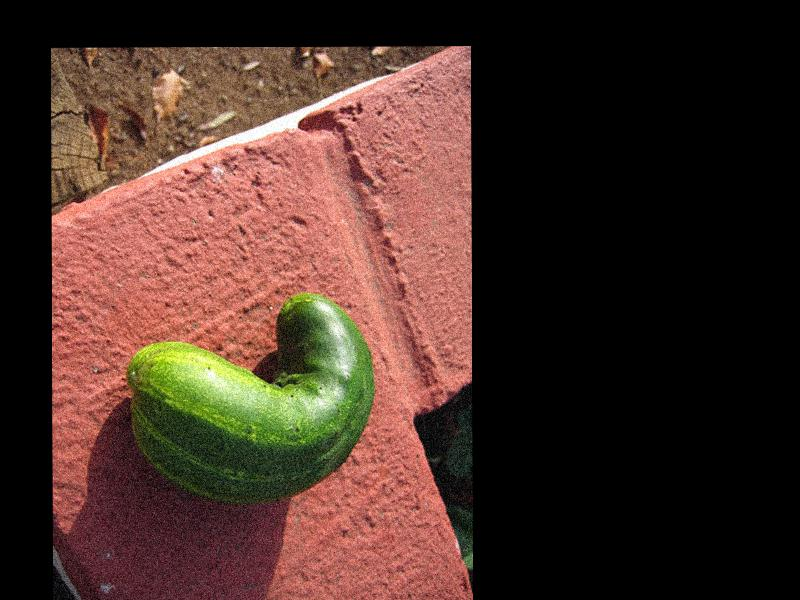Cucumber: (127, 290, 374, 502)
